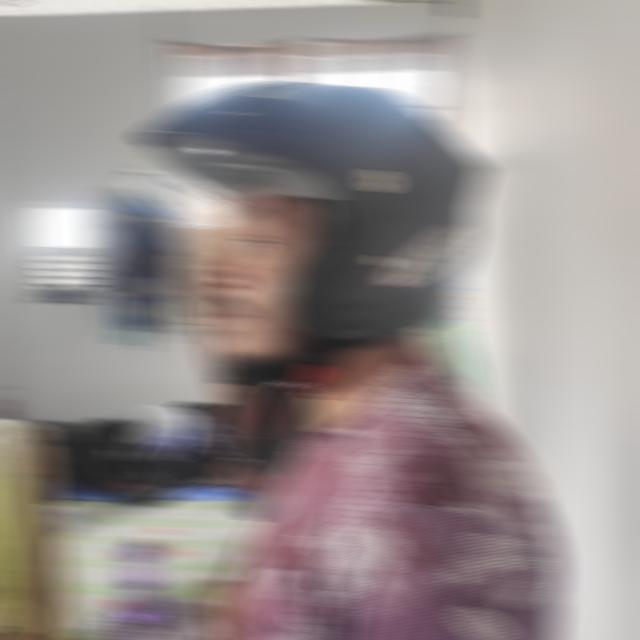With Helmet: (121, 79, 490, 363)
